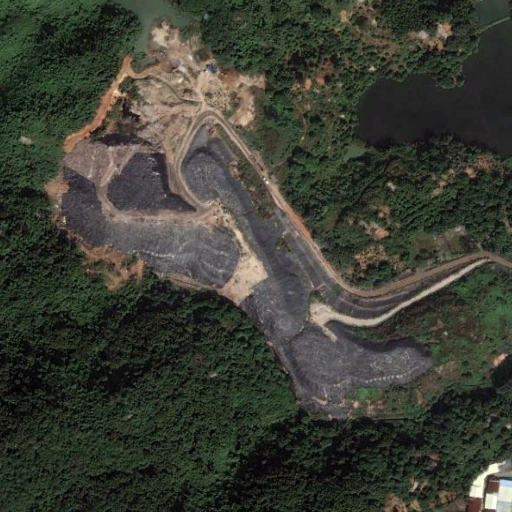lf: (61, 122, 427, 398)
